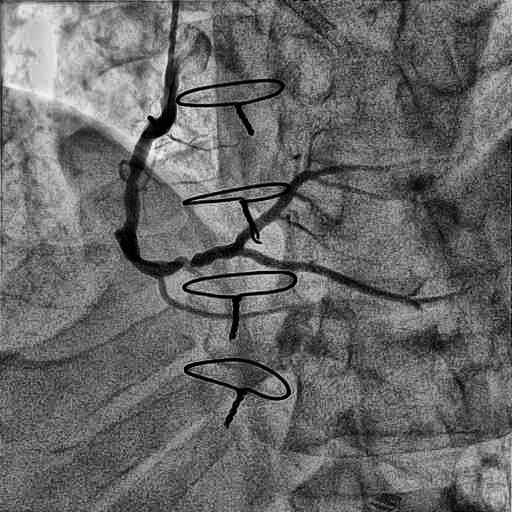pborca: (238, 162, 408, 241)
pda: (240, 248, 449, 304)
rca: (115, 118, 243, 278)
